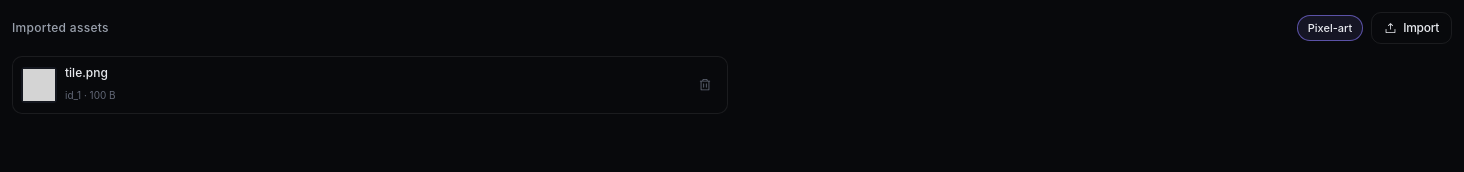
Scenario: AssetManager › deletes an existing asset
The width and height of the screenshot is (1464, 172).
Click the button named "Delete tile.png" at (705, 85), box [691,71,719,99]
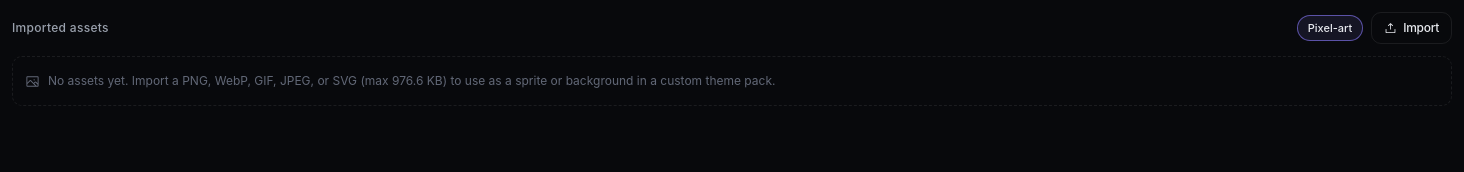
Now the text "tile.png" is gone
